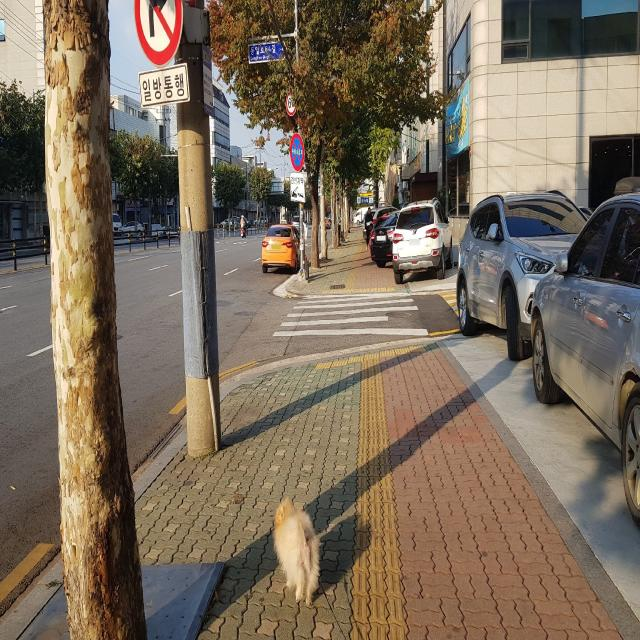횡단보도: (272, 298, 428, 338)
